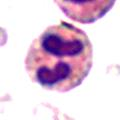eosi: (23, 21, 96, 95)
